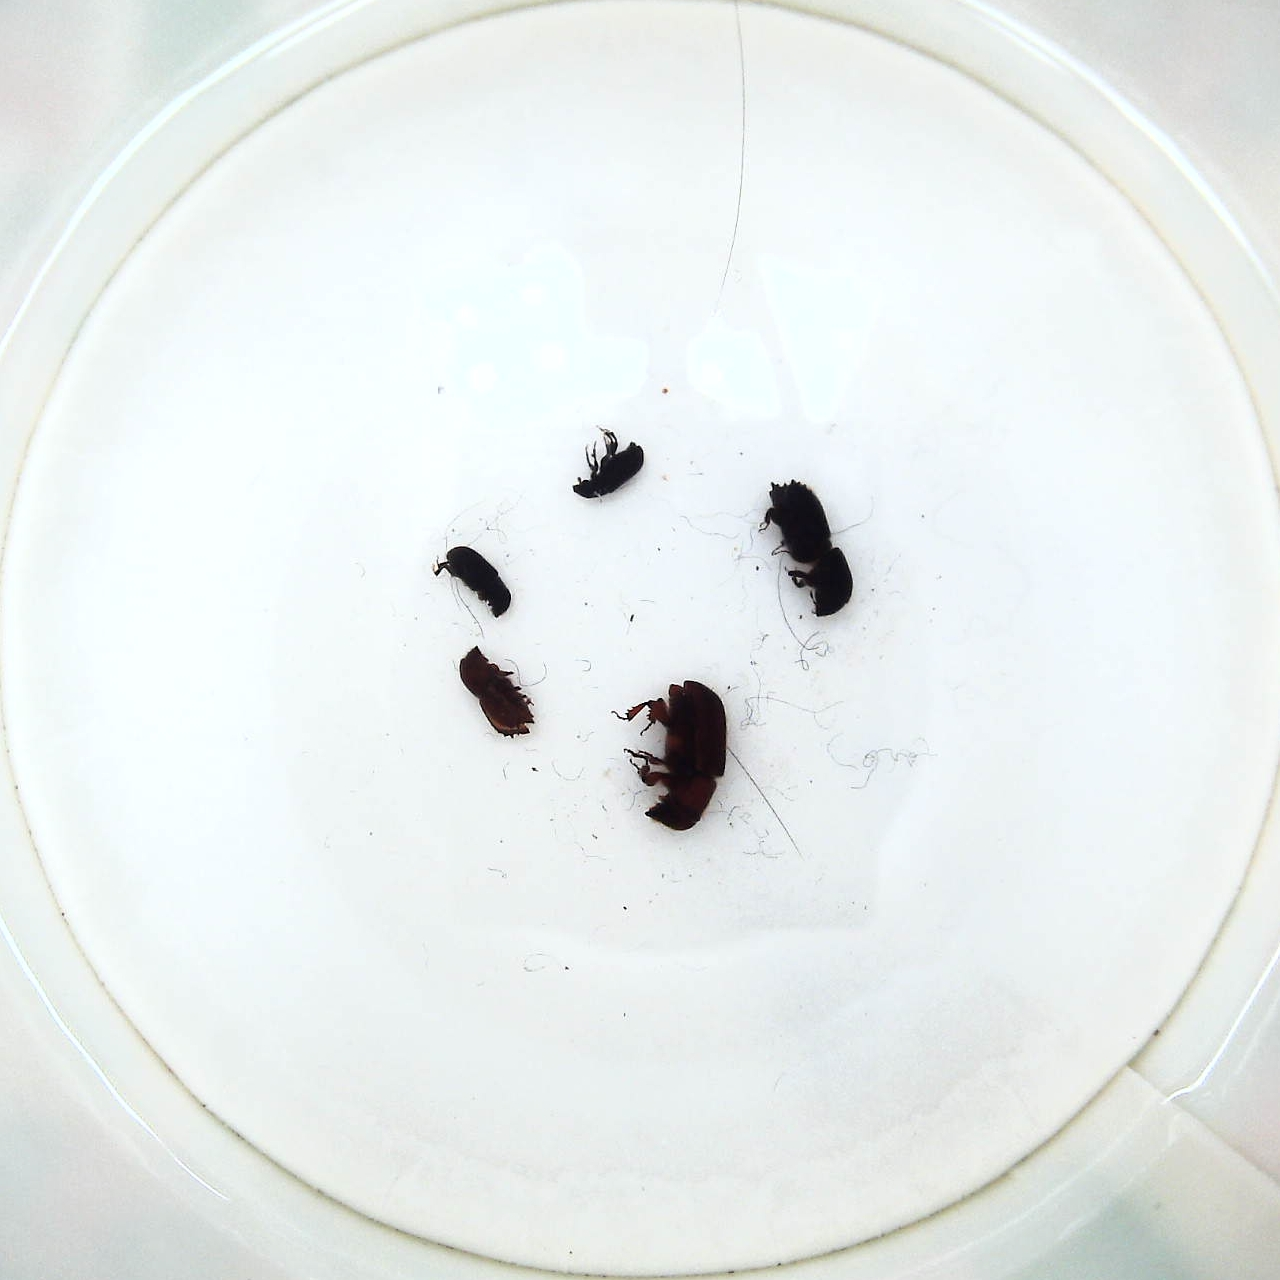Boerner: (756, 475, 856, 624)
Leconte: (617, 678, 729, 838)
armandi: (433, 543, 510, 621)
coleoptera: (573, 425, 651, 504)
linnaeus: (454, 646, 539, 743)
